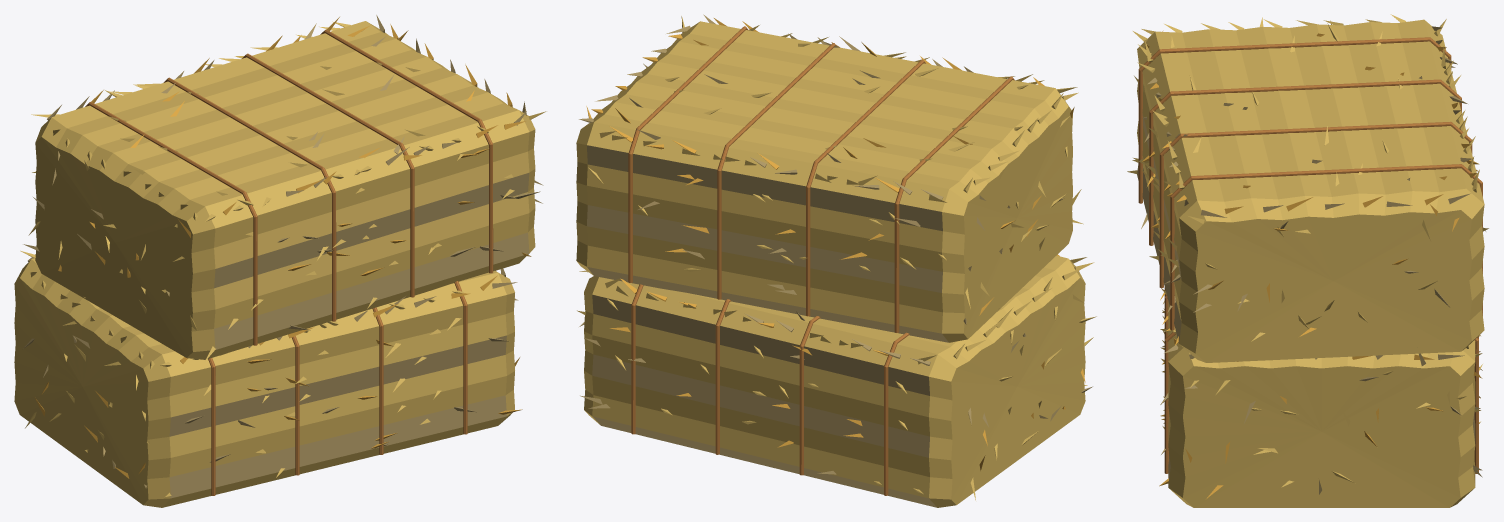
The model's file is mdvl_farm_haystack_02.glb.
3 renders of one model, left to right at view 1: azimuth 30°, elevation 25°; view 2: azimuth 150°, elevation 25°; view 3: azimuth 270°, elevation 25°, orthographic. The views are drawn at different scales.
Visible parts, largest first — view 1: mdvl_farm_haystack_02; view 2: mdvl_farm_haystack_02; view 3: mdvl_farm_haystack_02.
Part boxes in pixels (x1,y1,x2,y2): mdvl_farm_haystack_02: [14, 15, 546, 507]; mdvl_farm_haystack_02: [576, 14, 1096, 507]; mdvl_farm_haystack_02: [1127, 14, 1488, 507].
Bounding box in the file's own units: 1.34 × 0.9809 × 0.9938.
1 material, 1 textured.
